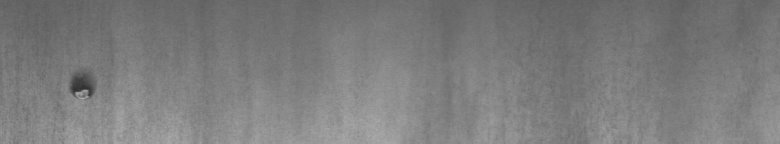fi: (63, 64, 101, 104)
